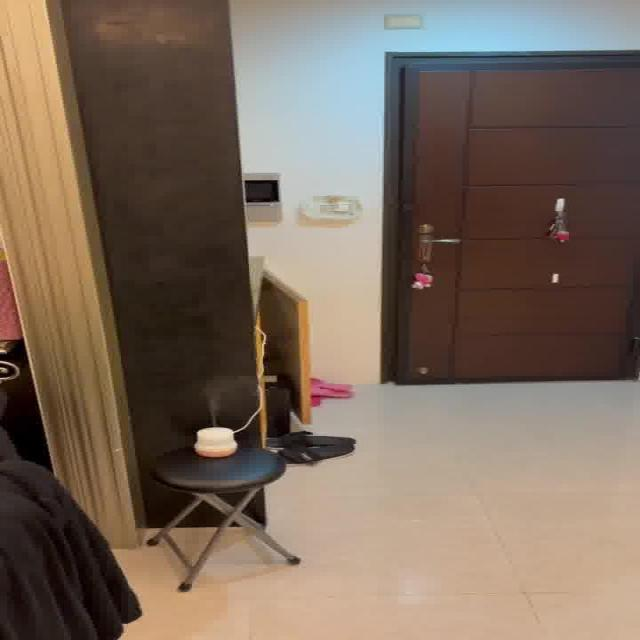fire: (187, 374, 247, 419)
